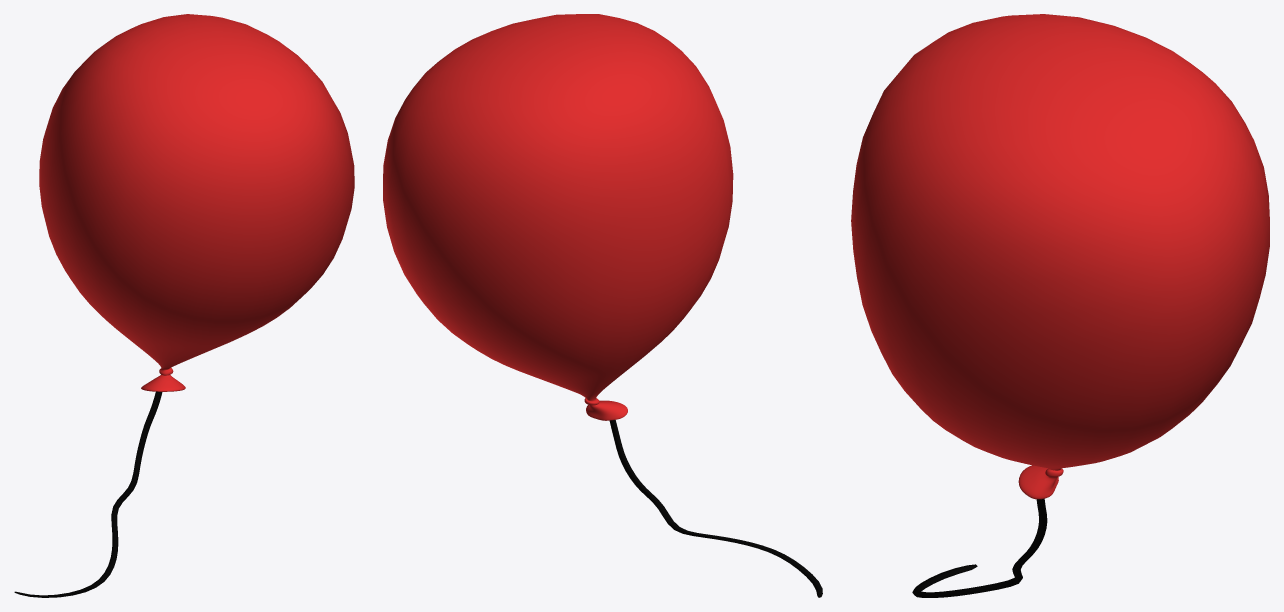
Rendered from ballon FBX.glb.
The picture shows the model from 3 angles, left to right: view 1: azimuth 30°, elevation 25°; view 2: azimuth 150°, elevation 25°; view 3: azimuth 270°, elevation 25°; orthographic projection. The views are drawn at different scales.
Visible parts, largest first — view 1: OBJ_ballon_LOW, ballon2; view 2: OBJ_ballon_LOW, ballon2; view 3: OBJ_ballon_LOW, ballon2.
Part boxes in pixels (box(x1,y1,x2,y2)): OBJ_ballon_LOW: box(39, 14, 354, 391); ballon2: box(14, 391, 162, 597); OBJ_ballon_LOW: box(383, 14, 733, 420); ballon2: box(609, 420, 822, 597); OBJ_ballon_LOW: box(851, 14, 1269, 499); ballon2: box(912, 498, 1047, 597).
Size of the model in its own units: 0.4098 by 0.549 by 0.3123.
